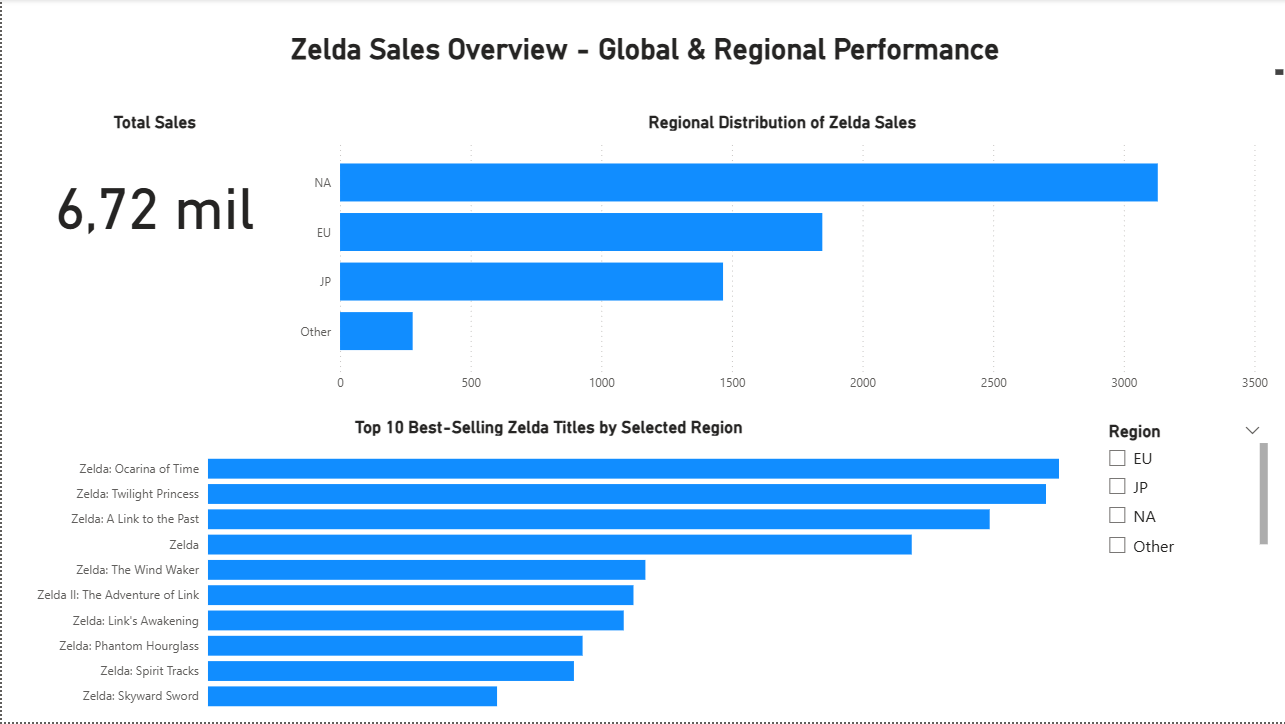

What the dashboard file says about the page in this screenshot:
{"tool":"powerbi","page":{"name":"The Legend of Zelda - Franchise Sales Overview","canvas":[1280,720],"ordinal":0},"visuals":[{"type":"slicer","fields":{"Values":["vgsales.Region"]},"box":[1088,416,176,144],"z":0},{"type":"clusteredBarChart","title":"Top 10 Best-Selling Zelda Titles by Selected Region","fields":{"Category":["vgsales.Name"],"Y":["vgsales.Total Sales"]},"box":[16,416,1056,304],"z":1000},{"type":"card","title":"Total Sales ","fields":{"Values":["vgsales.Total Sales Global"]},"box":[16,112,272,160],"z":2000},{"type":"clusteredBarChart","title":"Regional Distribution of Zelda Sales ","fields":{"Category":["vgsales.Region"],"Y":["vgsales.Total Sales"]},"box":[288,112,976,288],"z":3000},{"type":"textbox","title":"Zelda Sales Overview - Global & Regional Performance","box":[0,32,1280,48],"z":4000}]}

Visuals, with their boxes in screenshot pixels (x1, y1, x2, y2), scaled from the page's 1280x720 canvas onto the 1285x724 screenshot:
slicer - vgsales.Region: 1092/418/1269/563
"Top 10 Best-Selling Zelda Titles by Selected Region" clusteredBarChart: 16/418/1076/723
"Total Sales " card: 16/113/289/274
"Regional Distribution of Zelda Sales " clusteredBarChart: 289/113/1269/402
"Zelda Sales Overview - Global & Regional Performance" textbox: 0/32/1284/80
